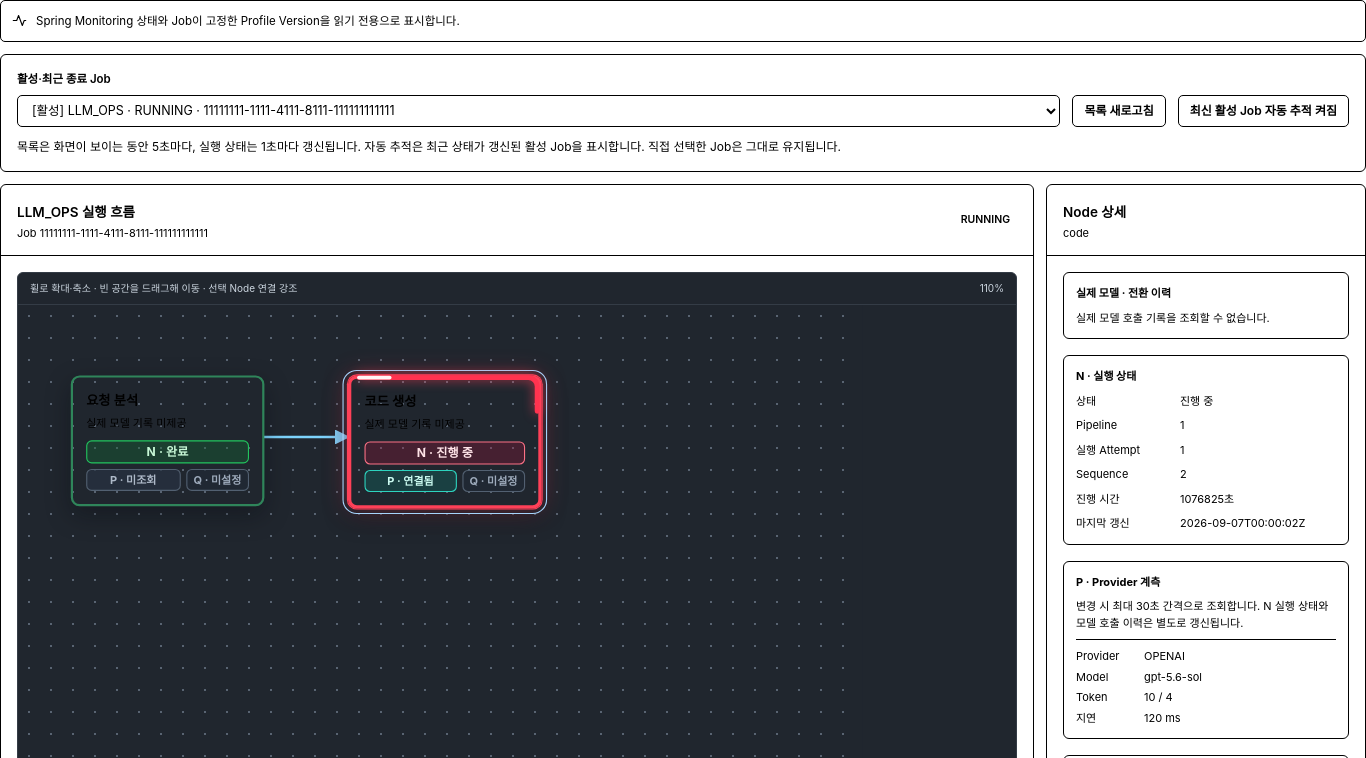
Test: preserves zoom across accepted polling and suppresses stale RUNNING decoration on terminal Jobs
Click the button with aria-label "analyze Node" at (168, 441), box [71, 376, 264, 507]
Wait 1000 ms
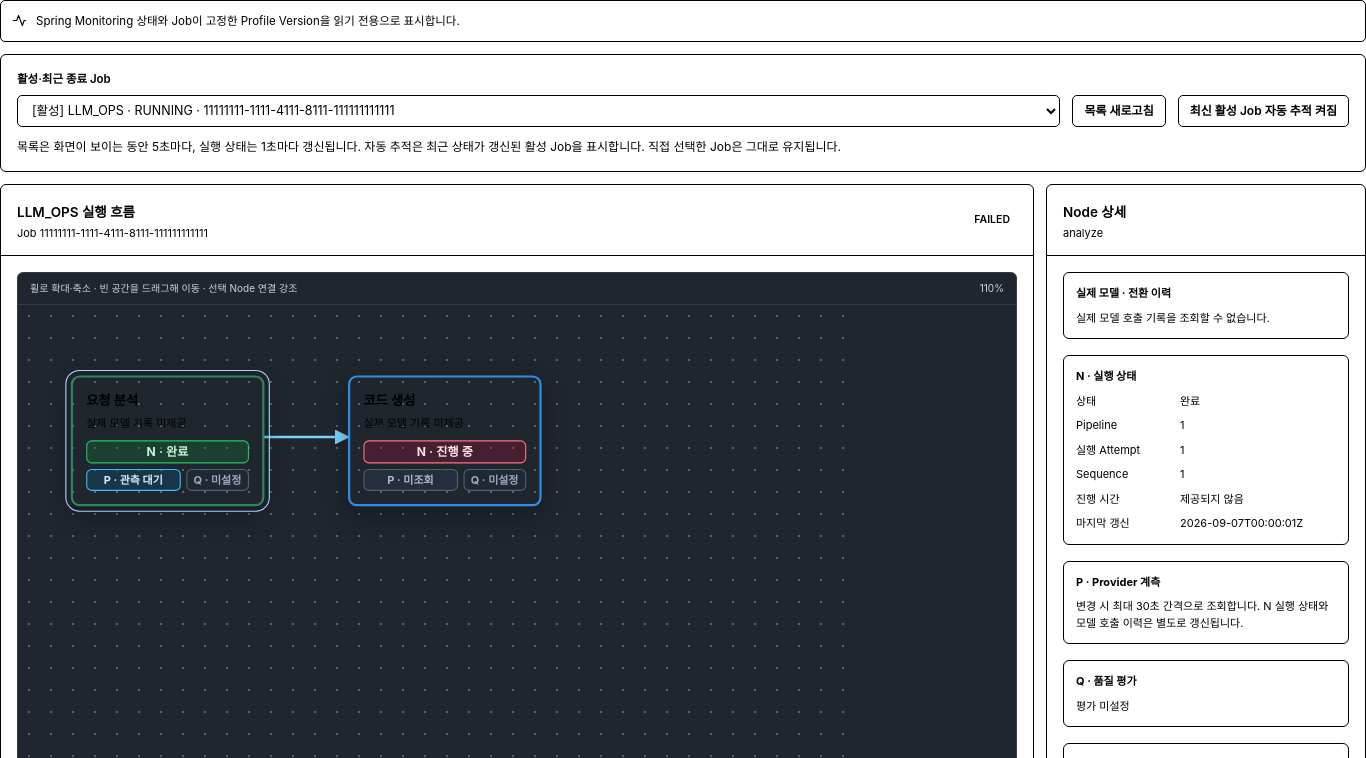
Check: the icon with class "monitoring-node-activity" is gone
